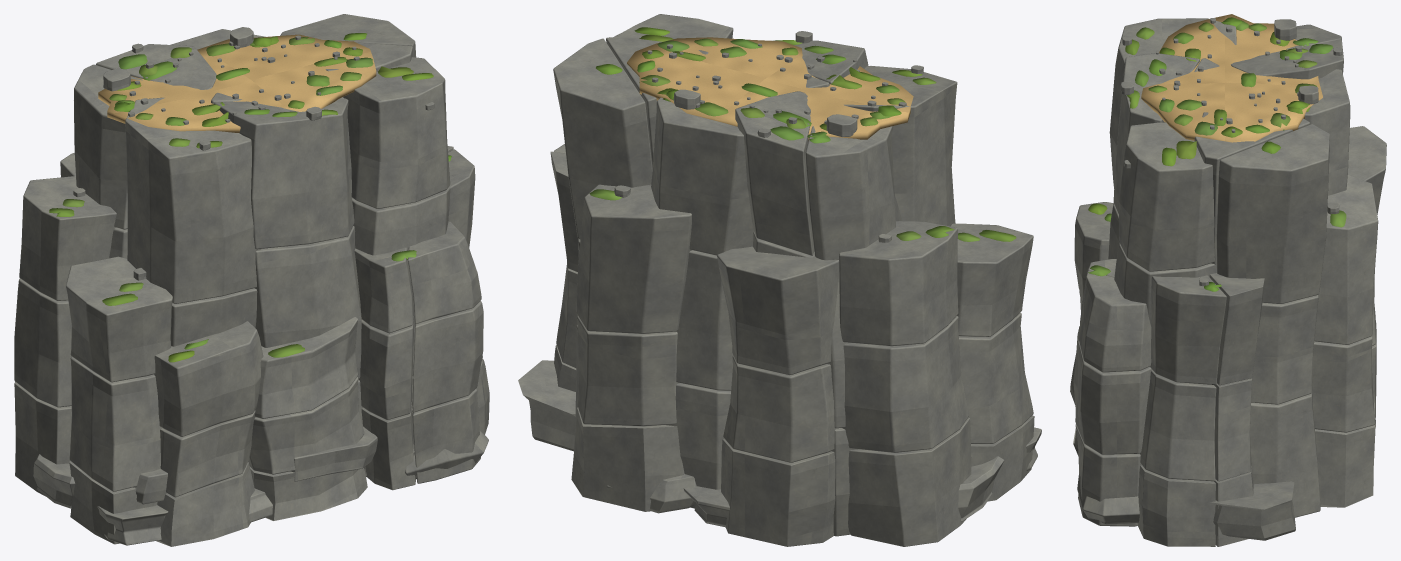
File: cliff-v1.glb
3 renders of one model, left to right at view 1: azimuth 30°, elevation 25°; view 2: azimuth 150°, elevation 25°; view 3: azimuth 270°, elevation 25°, orthographic. The views are drawn at different scales.
Visible parts, largest first — view 1: Rock_Core_04_Fragment_1_3, Rock_Core_05_Fragment_1_3, Rock_Core_06_Fragment_1_3, Top_Cap_Sandy_Infill_Closed, Rock_Core_07_Fragment_1_3, Rock_Core_05_Fragment_1_2, Rock_Core_07_Fragment_1_2, Rock_Core_09_Fragment_1_3, Rock_Core_12_Fragment_1_3, Rock_Core_10_Fragment_1_3, Rock_Core_01_Fragment_1_3, Rock_Core_12_Fragment_1_2 (+26 smaller); view 2: Rock_Core_14_Fragment_1_3, Rock_Core_12_Fragment_1_2, Rock_Core_13_Fragment_1_3, Rock_Core_12_Fragment_1_3, Top_Cap_Sandy_Infill_Closed, Rock_Core_03_Fragment_2_3, Rock_Core_02_Fragment_1_3, Rock_Core_12_Fragment_1_1, Rock_Core_01_Fragment_1_3, Rock_Core_13_Fragment_1_1, Rock_Core_13_Fragment_1_2, Rock_Core_14_Fragment_1_2 (+19 smaller); view 3: Rock_Core_03_Fragment_2_3, Rock_Core_06_Fragment_1_3, Top_Cap_Sandy_Infill_Closed, Rock_Core_14_Fragment_1_3, Rock_Core_08_Fragment_1_3, Rock_Core_08_Fragment_1_2, Rock_Core_03_Fragment_2_1, Rock_Core_11_Fragment_1_2, Rock_Core_03_Fragment_2_2, Rock_Core_11_Fragment_1_3, Rock_Core_14_Fragment_1_2, Rock_Core_08_Fragment_1_1 (+18 smaller).
Part boxes in pixels (x1,y1,x2,y2): Rock_Core_04_Fragment_1_3: (125, 97, 260, 303); Rock_Core_05_Fragment_1_3: (214, 98, 354, 249); Rock_Core_06_Fragment_1_3: (343, 57, 450, 208); Top_Cap_Sandy_Infill_Closed: (98, 34, 376, 132); Rock_Core_07_Fragment_1_3: (66, 256, 172, 382); Rock_Core_05_Fragment_1_2: (254, 226, 361, 378); Rock_Core_07_Fragment_1_2: (69, 356, 162, 491); Rock_Core_09_Fragment_1_3: (154, 321, 263, 436); Rock_Core_12_Fragment_1_3: (19, 176, 116, 300); Rock_Core_10_Fragment_1_3: (255, 317, 358, 418); Rock_Core_01_Fragment_1_3: (74, 64, 142, 229); Rock_Core_12_Fragment_1_2: (14, 278, 71, 407); Rock_Core_14_Fragment_1_3: (576, 184, 691, 333); Rock_Core_12_Fragment_1_2: (842, 316, 969, 452); Rock_Core_13_Fragment_1_3: (717, 246, 839, 375); Rock_Core_12_Fragment_1_3: (839, 221, 958, 346); Top_Cap_Sandy_Infill_Closed: (627, 37, 913, 140); Rock_Core_03_Fragment_2_3: (553, 38, 652, 239); Rock_Core_02_Fragment_1_3: (651, 97, 753, 255); Rock_Core_12_Fragment_1_1: (848, 417, 971, 546); Rock_Core_01_Fragment_1_3: (805, 126, 902, 260); Rock_Core_13_Fragment_1_1: (721, 438, 835, 546); Rock_Core_13_Fragment_1_2: (723, 356, 835, 462); Rock_Core_14_Fragment_1_2: (577, 316, 680, 426); Rock_Core_03_Fragment_2_3: (1216, 124, 1329, 303); Rock_Core_06_Fragment_1_3: (1119, 122, 1214, 271); Top_Cap_Sandy_Infill_Closed: (1141, 14, 1322, 142); Rock_Core_14_Fragment_1_3: (1314, 175, 1378, 344); Rock_Core_08_Fragment_1_3: (1150, 275, 1226, 384); Rock_Core_08_Fragment_1_2: (1140, 370, 1216, 481); Rock_Core_03_Fragment_2_1: (1250, 391, 1320, 517); Rock_Core_11_Fragment_1_2: (1073, 340, 1152, 454); Rock_Core_03_Fragment_2_2: (1251, 295, 1318, 404); Rock_Core_11_Fragment_1_3: (1078, 270, 1151, 372); Rock_Core_14_Fragment_1_2: (1312, 336, 1375, 432); Rock_Core_08_Fragment_1_1: (1137, 465, 1215, 546).
Size of the model in its own units: 8.17 by 6.96 by 5.34.
Materials: 3 (2 with a texture image).
